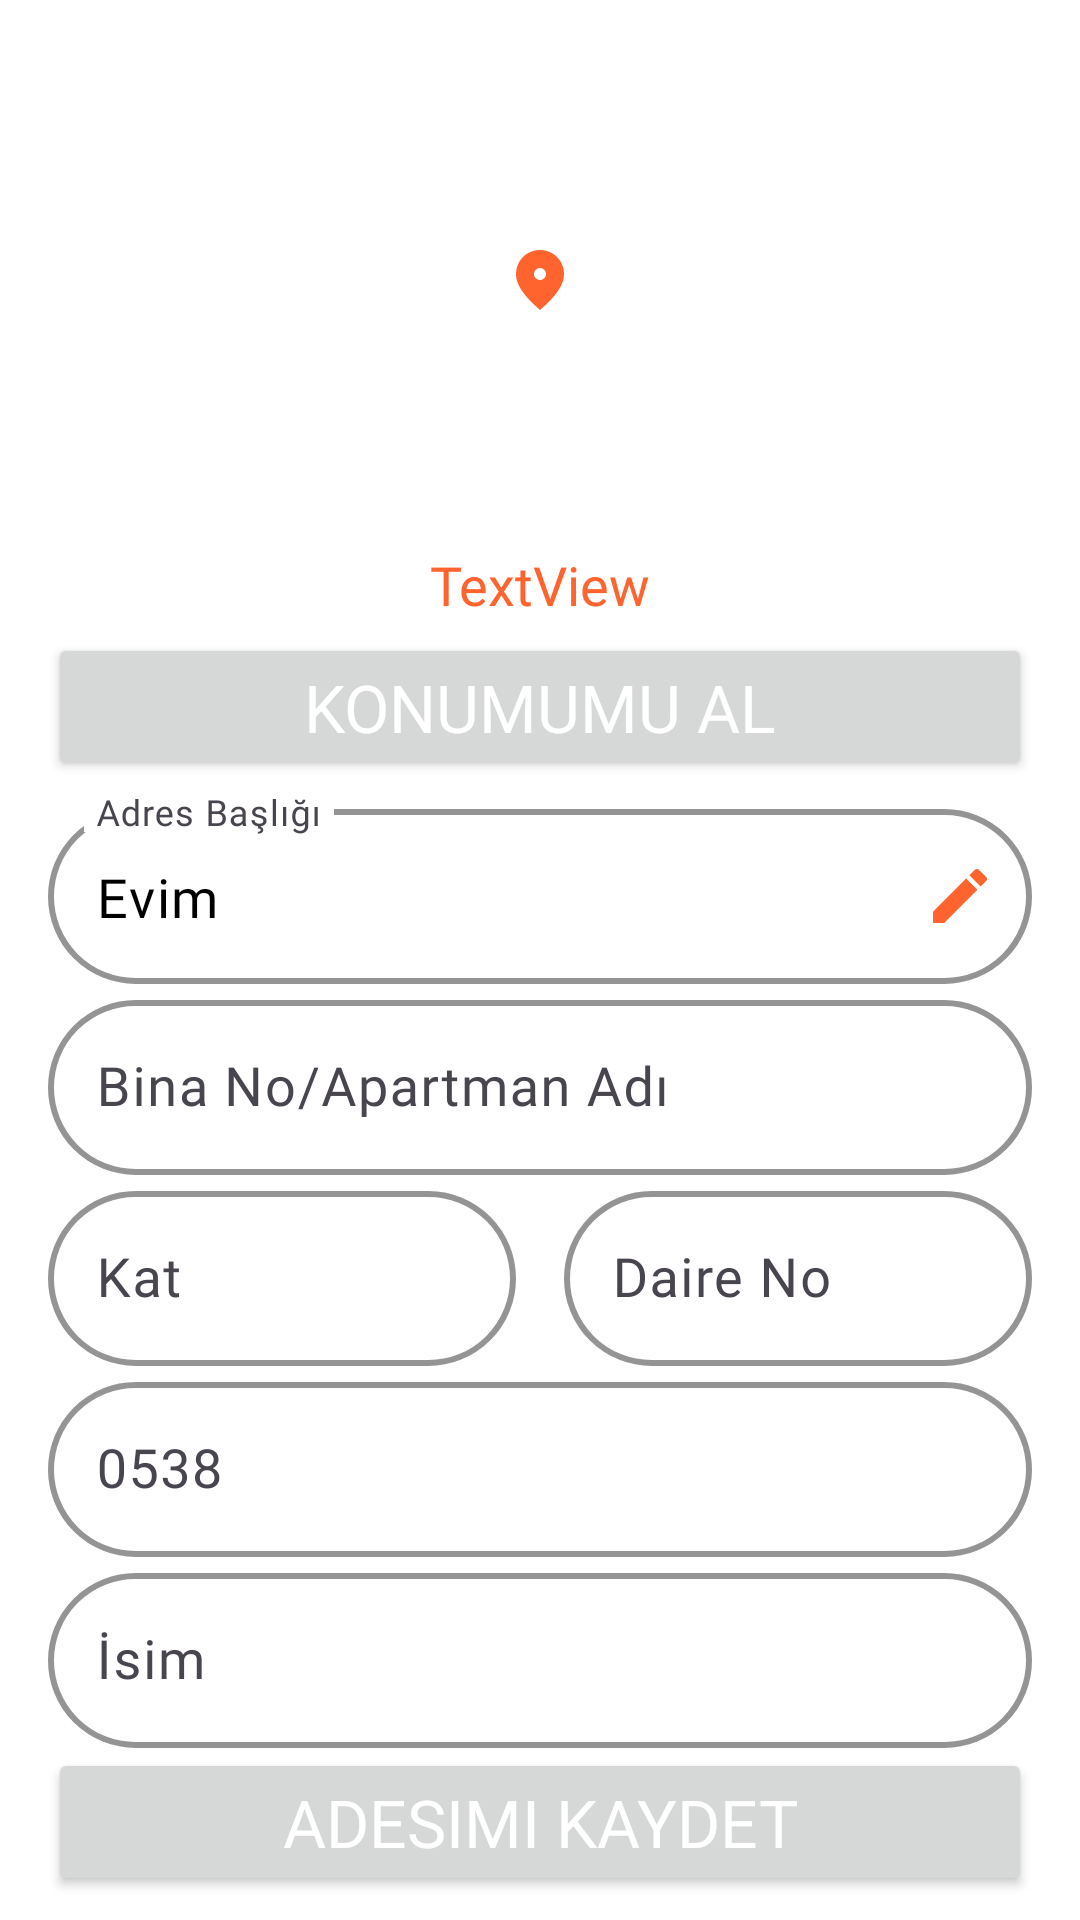

Icon click points for this 1080 × 1920 phone screenshot, format point (x, y):
konum isareti: point (540, 280)
